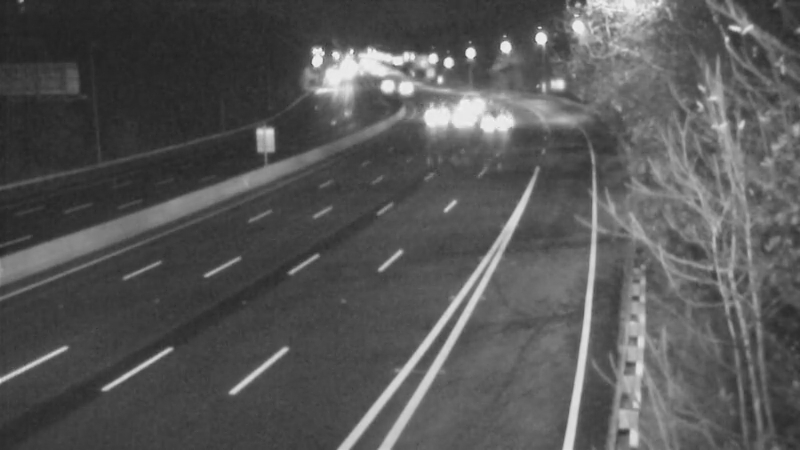vehicle: (376, 62, 426, 112), (359, 58, 409, 108), (440, 80, 490, 130), (410, 92, 460, 142), (438, 98, 488, 148), (467, 99, 517, 149)
